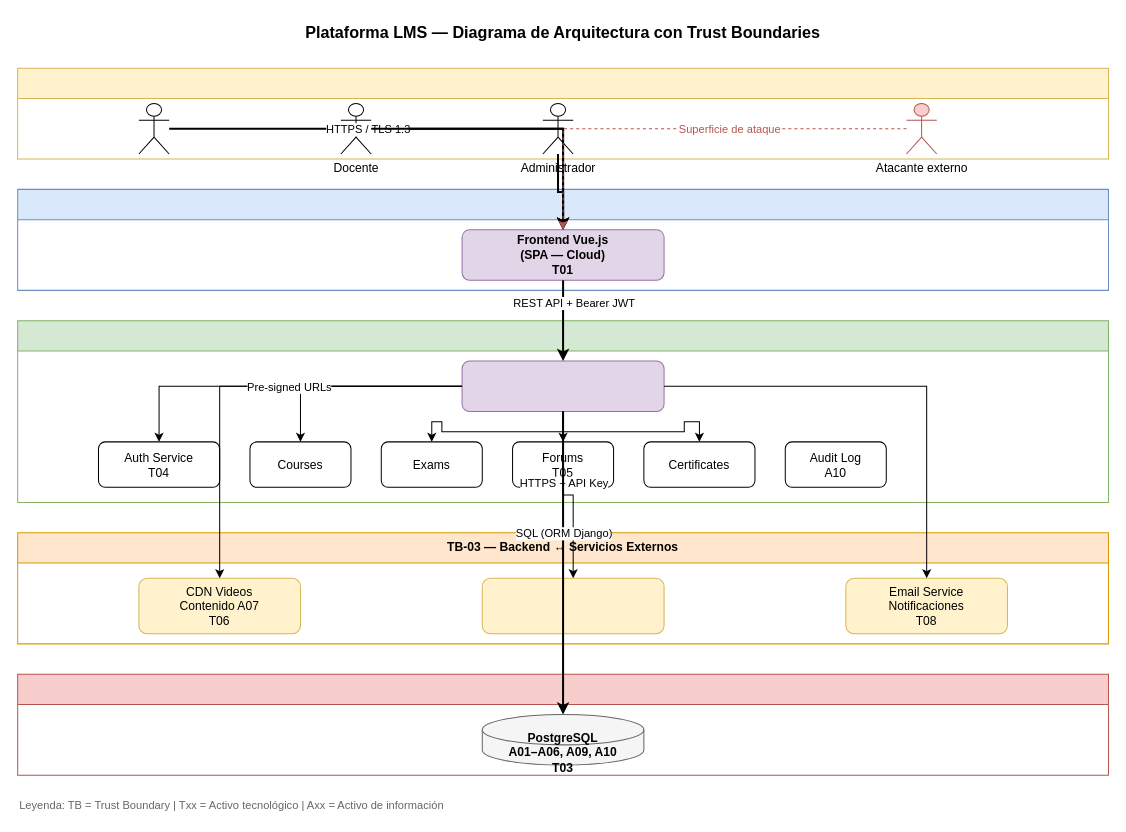
Image size: 1126x832. Some labels were removed from this diagram. The box of each missing label's shape, as (x1, y1, x2, y2) in pixels:
Actores (Internet — no confiable): (17, 67, 1108, 159)
API Certificados Firma digital A06 T07: (481, 577, 664, 634)
Django Backend REST API + JWT T02: (461, 360, 664, 412)
Estudiante: (138, 103, 169, 154)
TB-01 — Usuarios ↔ Aplicación: (17, 188, 1108, 290)
TB-02 — Frontend ↔ Backend: (17, 320, 1108, 502)
TB-04 — Backend ↔ Datos Persistentes: (17, 673, 1108, 775)
